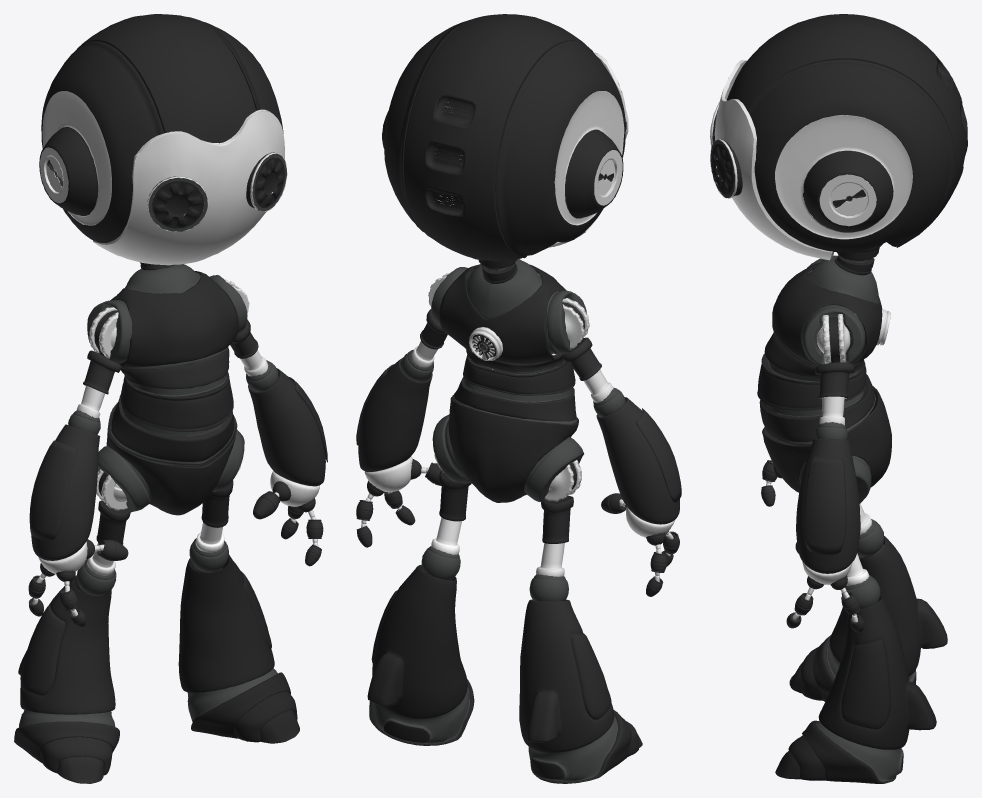
Rendered from robot-transformed.glb.
3 views of the same model, side by side, from view 1: azimuth 30°, elevation 25°; view 2: azimuth 150°, elevation 25°; view 3: azimuth 270°, elevation 25° (orthographic).
Parts seen in each view (by area): view 1: Robot.001_2, Robot.014_0, Robot.015_2, Robot.017_2, Robot.014_1, Robot.014_2, Robot.016_2, Robot.001_3, Robot.015_0; view 2: Robot.001_2, Robot.014_1, Robot.017_2, Robot.015_2, Robot.014_0, Robot.014_2, Robot.016_2, Robot.001_3, Robot.015_0; view 3: Robot.001_2, Robot.014_0, Robot.015_2, Robot.016_2, Robot.014_1, Robot.017_2, Robot.001_3, Robot.014_2.
Boxes of the visible parts, x1,y1,x2,y2 form: Robot.001_2: (39,14,284,515); Robot.014_0: (32,91,319,616); Robot.015_2: (178,480,299,743); Robot.017_2: (14,472,130,783); Robot.014_1: (19,153,286,727); Robot.014_2: (28,310,128,627); Robot.016_2: (230,285,327,566); Robot.001_3: (152,157,284,228); Robot.015_0: (195,465,240,552); Robot.001_2: (382,14,626,502); Robot.014_1: (372,259,625,781); Robot.017_2: (519,462,642,783); Robot.015_2: (367,470,474,745); Robot.014_0: (361,52,674,582); Robot.014_2: (562,302,681,596); Robot.016_2: (356,309,447,547); Robot.001_3: (434,102,496,359); Robot.015_0: (431,454,461,554); Robot.001_2: (712,14,967,492); Robot.014_0: (710,60,912,622); Robot.015_2: (775,596,936,783); Robot.016_2: (786,317,864,632); Robot.014_1: (710,140,915,781); Robot.017_2: (789,536,947,701); Robot.001_3: (712,71,941,194); Robot.014_2: (761,460,781,506).
Size of the model in its own units: 7.6 by 17.26 by 5.65.
9 materials, 8 textured.
